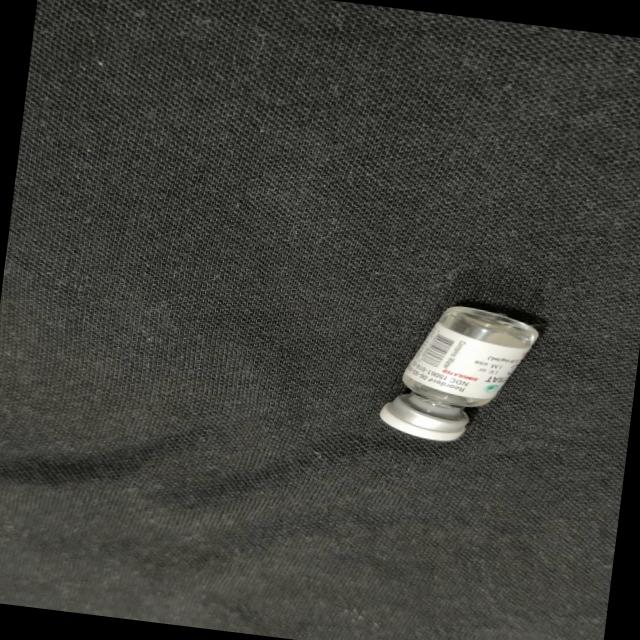fentanl_citrat: (379, 298, 538, 448)
